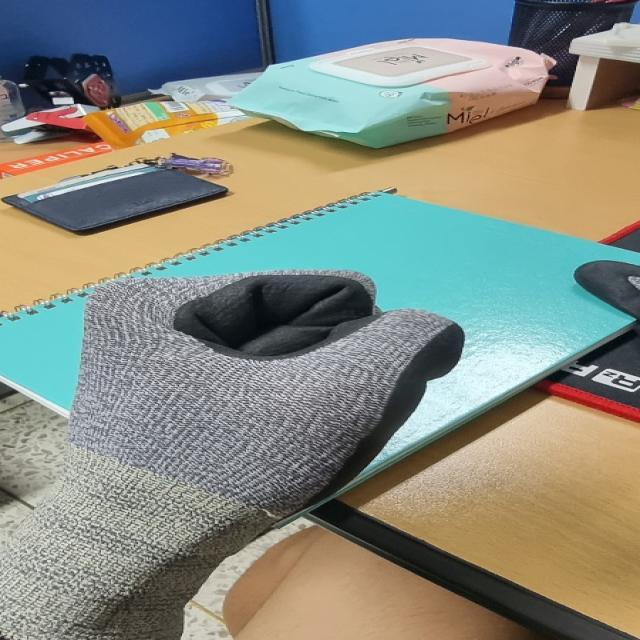Gloves: (0, 269, 427, 634)
